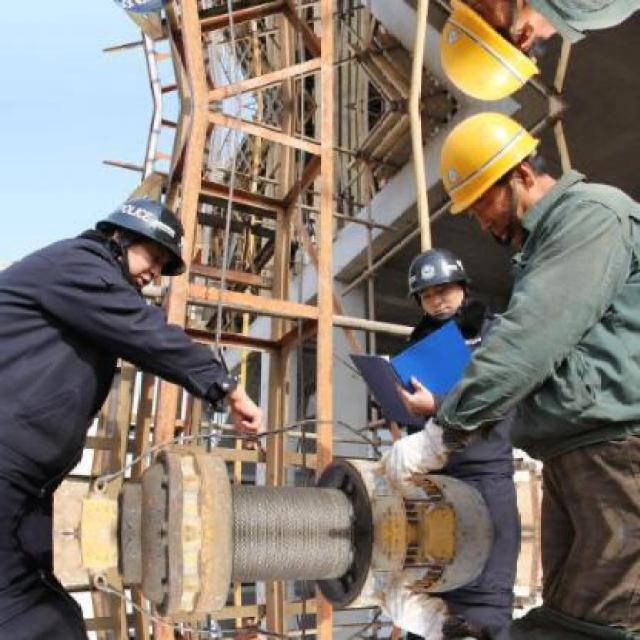hat: (436, 111, 547, 216), (96, 199, 190, 286), (406, 247, 472, 298)
